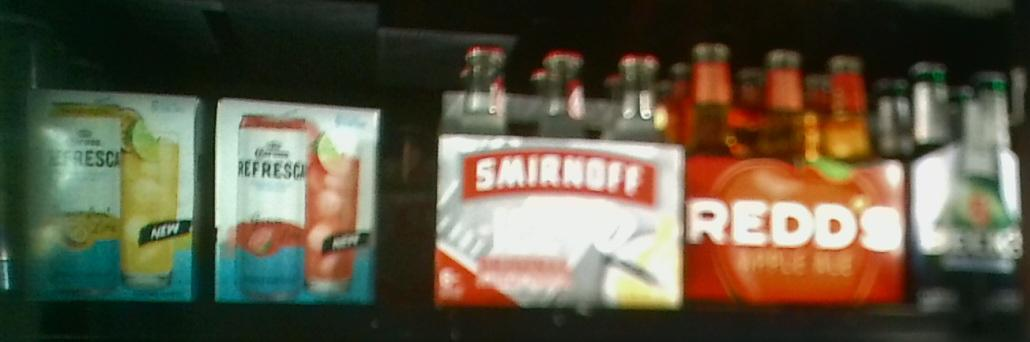bottle: (434, 49, 686, 310), (684, 41, 914, 313), (22, 91, 203, 305), (215, 99, 383, 308), (914, 56, 1030, 311)
